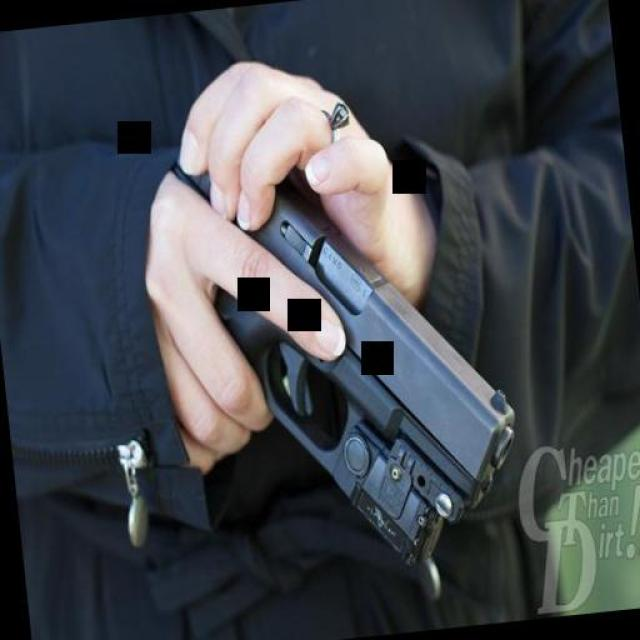gun: (152, 103, 524, 616)
